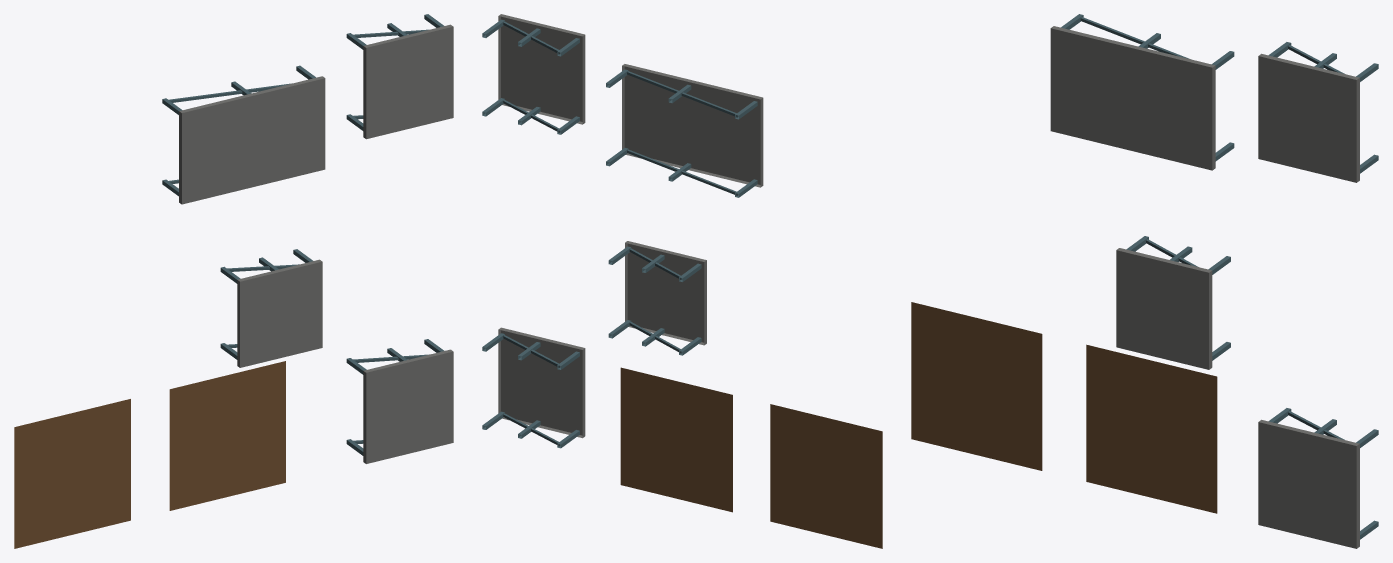
Rendered from construction_0.glb.
3 views of the same model, side by side, from view 1: azimuth 30°, elevation 25°; view 2: azimuth 150°, elevation 25°; view 3: azimuth 330°, elevation 25° (orthographic). The views are drawn at different scales.
Visible parts, largest first — view 1: t12_g2, t00_g5, t10_g6, t20_g3, t22_g3, t11_g0; view 2: t12_g2, t00_g5, t10_g6, t20_g3, t22_g3, t11_g0; view 3: t12_g2, t00_g5, t10_g6, t22_g3, t20_g3, t11_g0.
Boxes of the visible parts, box(x1,y1,x2,y2) form: t12_g2: box(162, 65, 325, 204); t00_g5: box(14, 399, 130, 548); t10_g6: box(169, 361, 285, 510); t20_g3: box(346, 339, 453, 463); t22_g3: box(346, 14, 453, 139); t11_g0: box(220, 249, 322, 367); t12_g2: box(606, 64, 763, 197); t00_g5: box(770, 404, 882, 548); t10_g6: box(620, 367, 732, 512); t20_g3: box(482, 327, 585, 448); t22_g3: box(482, 14, 585, 134); t11_g0: box(608, 241, 706, 355); t12_g2: box(1050, 14, 1234, 170); t00_g5: box(911, 302, 1042, 470); t10_g6: box(1086, 344, 1217, 513); t22_g3: box(1258, 42, 1378, 182); t20_g3: box(1258, 408, 1378, 548); t11_g0: box(1116, 236, 1230, 369).
Bounding box in the file's own units: 43 × 43 × 4.
